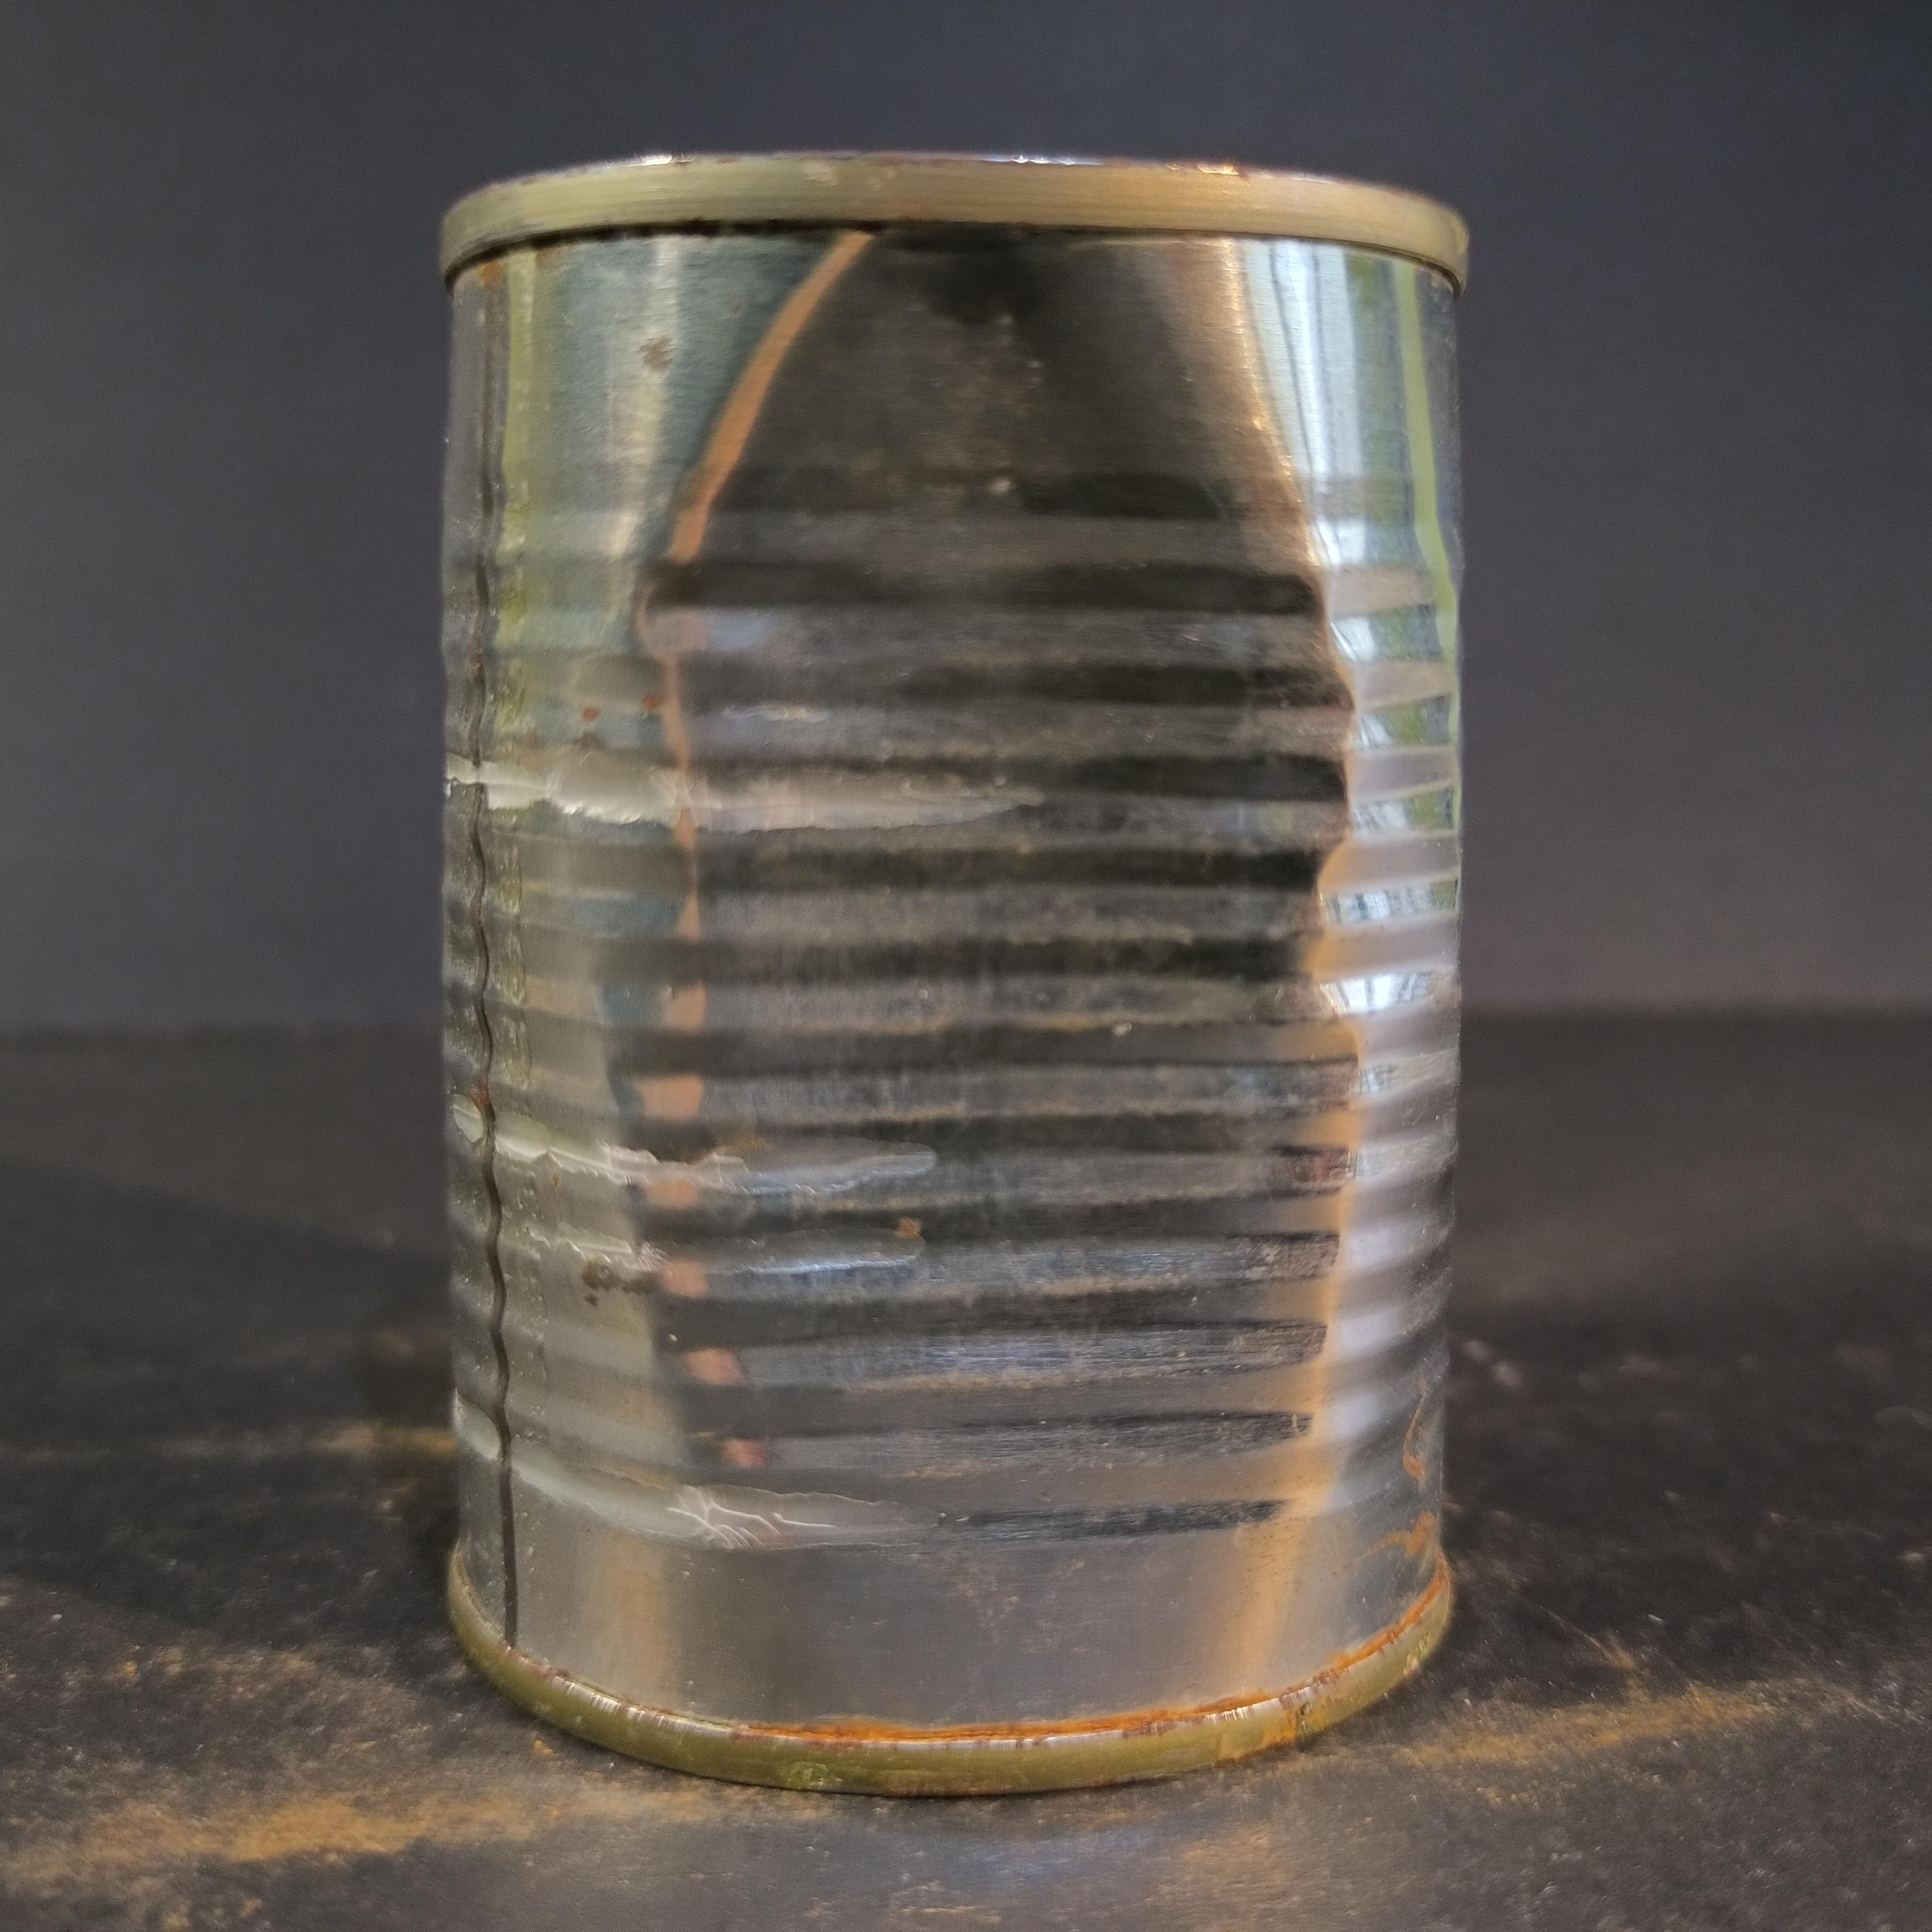Dented: (387, 117, 1502, 1842)
